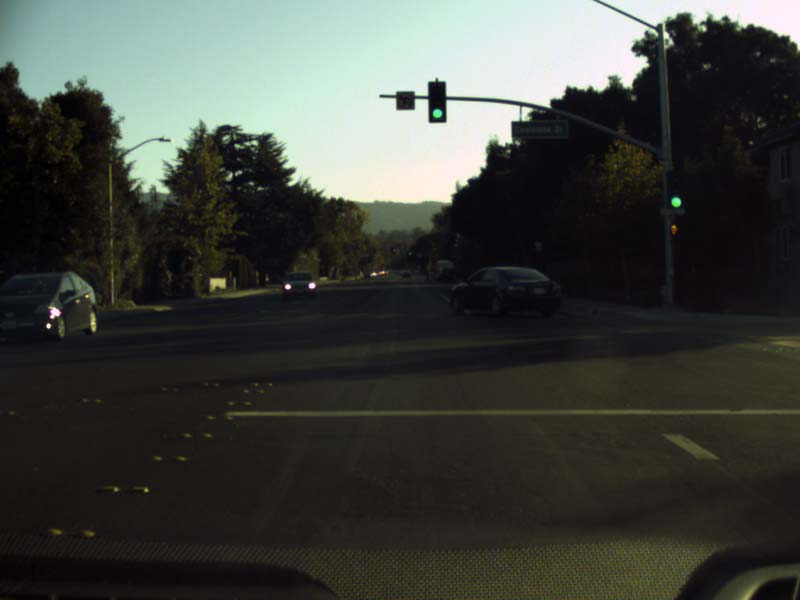Green: (428, 81, 446, 122), (666, 172, 683, 208), (408, 251, 411, 255)
Red: (392, 248, 396, 252)
